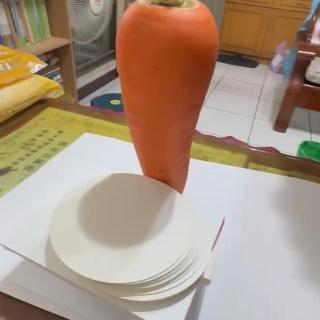carrot: (116, 0, 220, 194)
